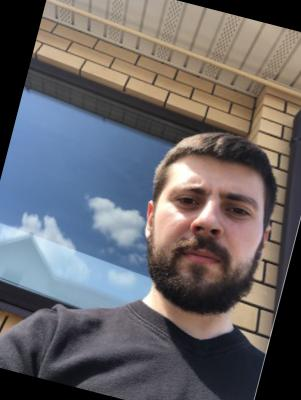without_mask: (138, 168, 274, 325)
